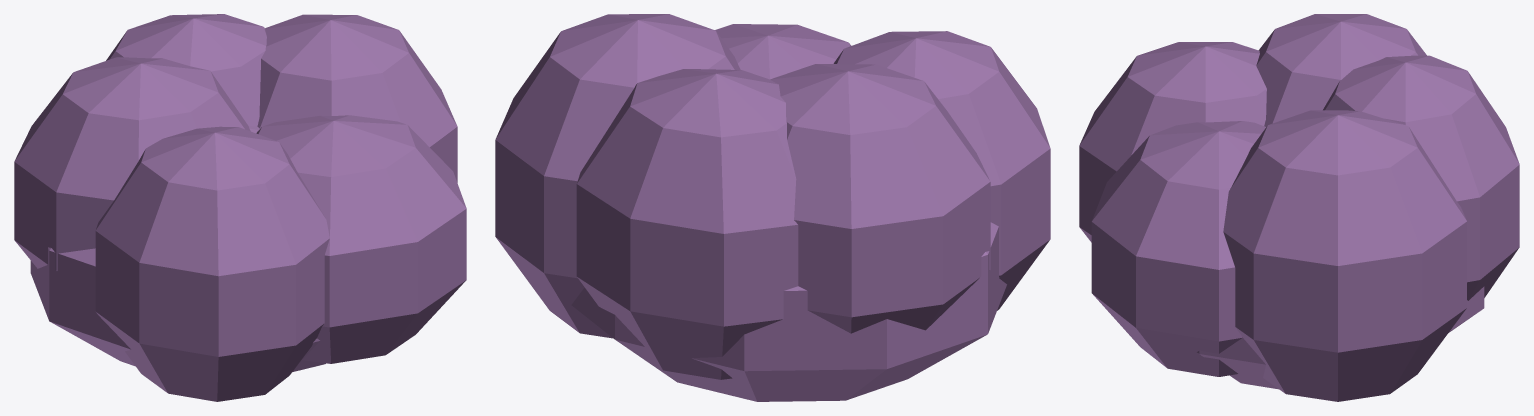
The model's file is coral_002c_rounded.glb.
3 renders of one model, left to right at view 1: azimuth 30°, elevation 25°; view 2: azimuth 150°, elevation 25°; view 3: azimuth 270°, elevation 25°, orthographic. The views are drawn at different scales.
Parts seen in each view (by area): view 1: coral_002c_rounded__mesh; view 2: coral_002c_rounded__mesh; view 3: coral_002c_rounded__mesh.
Part boxes in pixels (bbox=[...]): coral_002c_rounded__mesh: bbox=[14, 14, 466, 401]; coral_002c_rounded__mesh: bbox=[495, 14, 1050, 401]; coral_002c_rounded__mesh: bbox=[1079, 14, 1519, 401].
Bounding box in the file's own units: 0.6802 × 0.478 × 0.6354.
